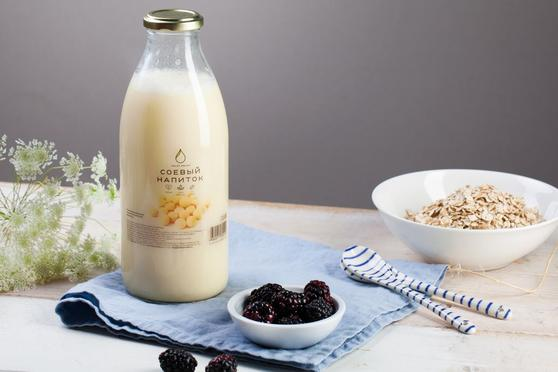milk: (111, 1, 237, 306)
